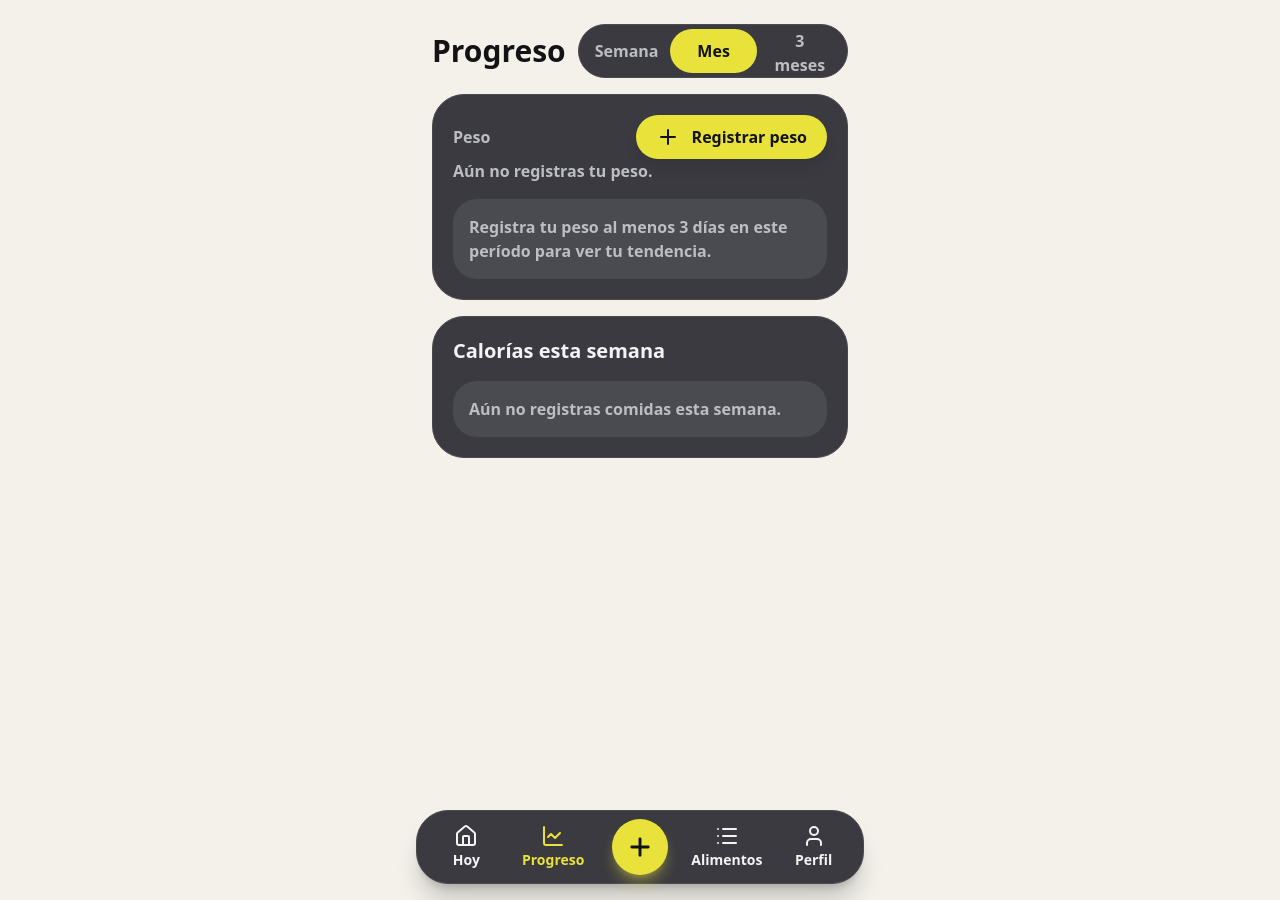
it: ProgressPage › Registrar peso › keeps the sheet open with a message when the save fails
This screenshot has width=1280, height=900.
Click the button "Registrar peso" at (731, 137), box [636, 115, 827, 159]
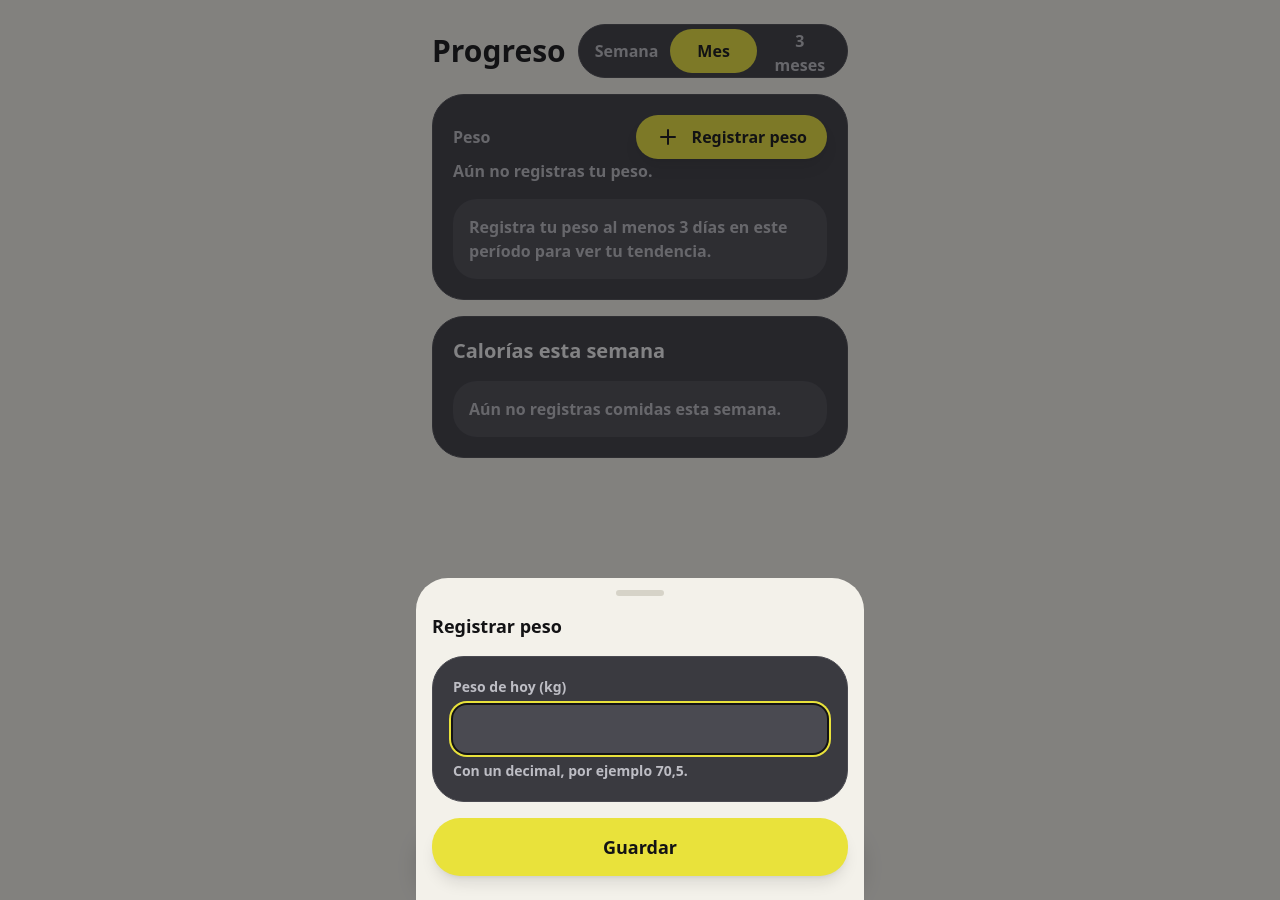
Type "70" into the field labelled "Peso de hoy (kg)" at (640, 729), box [453, 705, 827, 753]
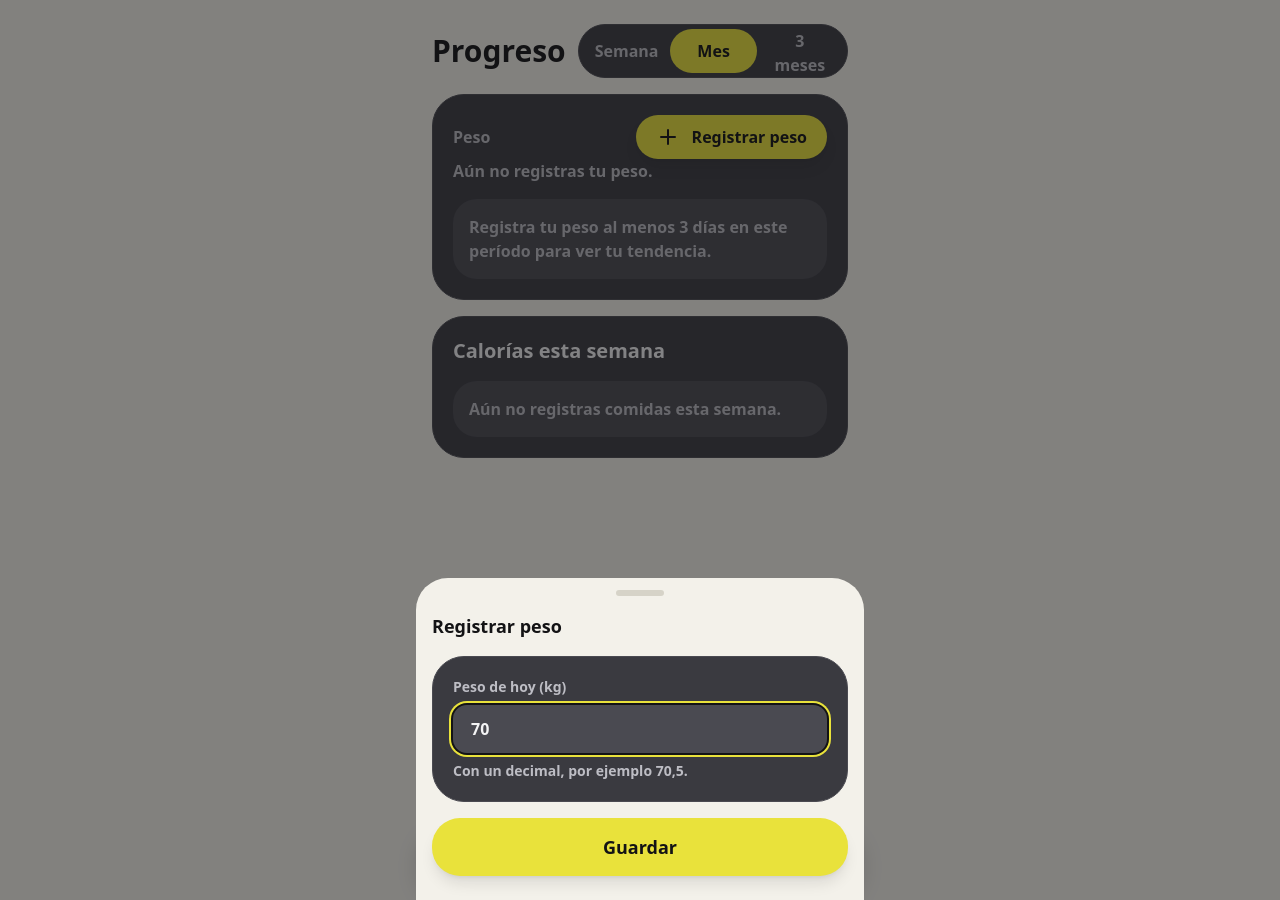
Click the button "Guardar" at (640, 847), box [432, 818, 848, 876]
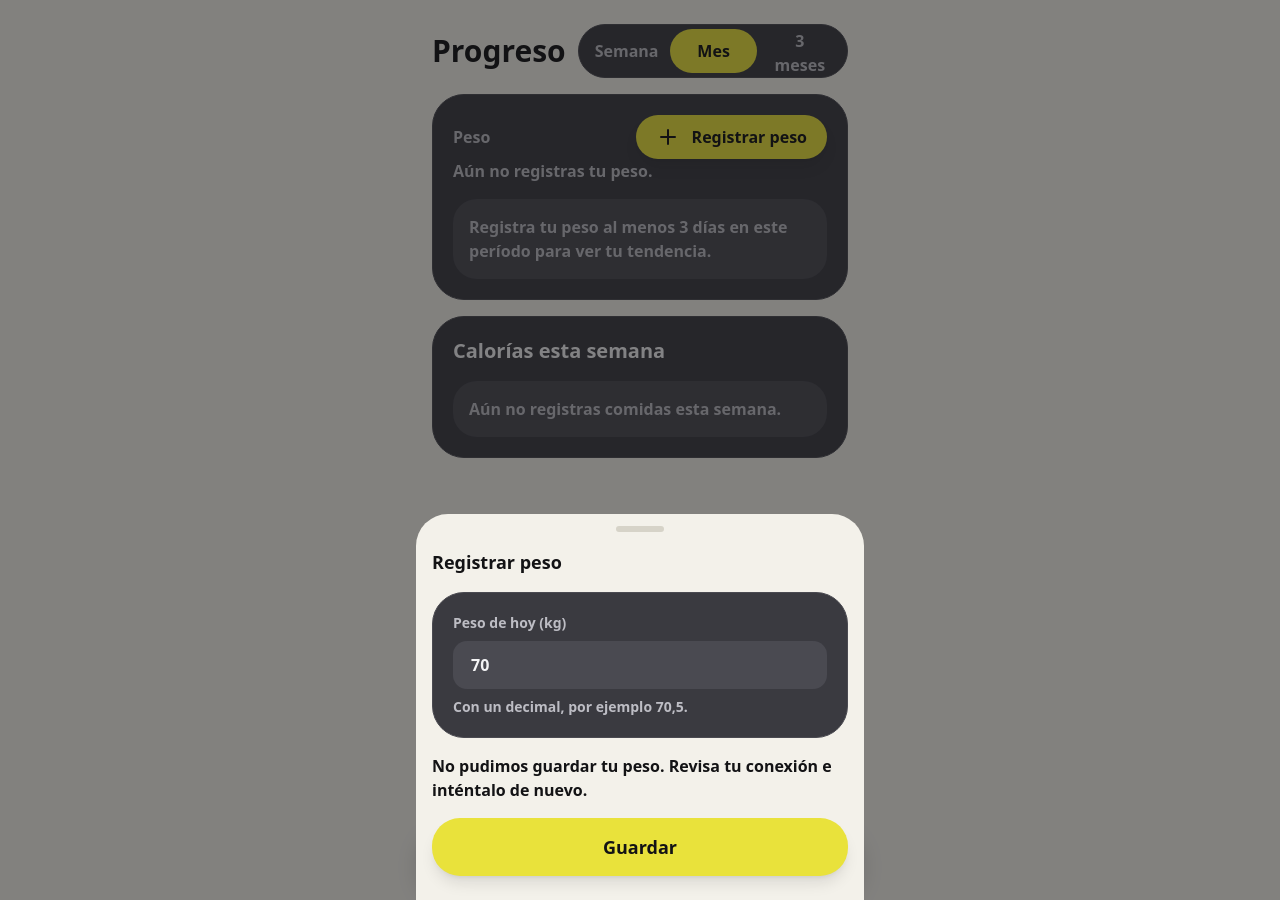
Check: the message shows "No pudimos guardar tu peso", box [432, 755, 832, 801]
